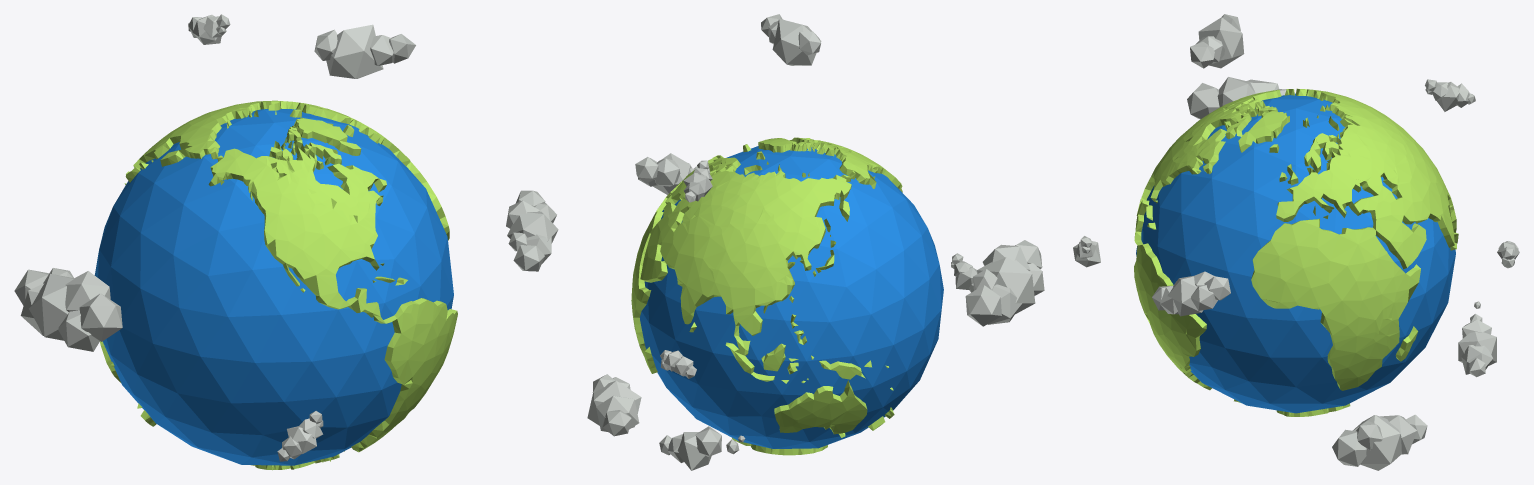
The model's file is lowpoly_earth.glb.
3 renders of one model, left to right at view 1: azimuth 30°, elevation 25°; view 2: azimuth 150°, elevation 25°; view 3: azimuth 270°, elevation 25°, orthographic. The views are drawn at different scales.
Parts seen in each view (by area): view 1: Ocean, Low poly earth.001, Cloud 3, Cloud 4, Cloud 2, Cloud 7, Cloud 8; view 2: Ocean, Low poly earth.001, Cloud 3, Cloud 5, Cloud 4, Cloud 6, Cloud 2, Cloud 8, Cloud 1, Cloud 7; view 3: Low poly earth.001, Ocean, Cloud 5, Cloud 2, Cloud 4, Cloud 3, Cloud 6, Cloud 8, Cloud 7.
Part boxes in pixels (x1=…): Ocean: x1=94, y1=109, x2=453, y2=465; Low poly earth.001: x1=100, y1=100, x2=457, y2=470; Cloud 3: x1=14, y1=268, x2=122, y2=351; Cloud 4: x1=314, y1=24, x2=415, y2=78; Cloud 2: x1=506, y1=190, x2=558, y2=271; Cloud 7: x1=277, y1=411, x2=323, y2=461; Cloud 8: x1=188, y1=14, x2=230, y2=44; Ocean: x1=640, y1=146, x2=943, y2=448; Low poly earth.001: x1=631, y1=137, x2=902, y2=455; Cloud 3: x1=965, y1=240, x2=1044, y2=326; Cloud 5: x1=587, y1=374, x2=641, y2=436; Cloud 4: x1=761, y1=14, x2=821, y2=65; Cloud 6: x1=659, y1=426, x2=745, y2=470; Cloud 2: x1=635, y1=153, x2=697, y2=194; Cloud 8: x1=683, y1=160, x2=712, y2=202; Cloud 1: x1=660, y1=350, x2=696, y2=378; Cloud 7: x1=951, y1=253, x2=977, y2=292; Low poly earth.001: x1=1134, y1=88, x2=1458, y2=416; Ocean: x1=1136, y1=93, x2=1455, y2=413; Cloud 5: x1=1332, y1=414, x2=1427, y2=470; Cloud 2: x1=1152, y1=271, x2=1230, y2=316; Cloud 4: x1=1190, y1=14, x2=1244, y2=68; Cloud 3: x1=1187, y1=77, x2=1286, y2=119; Cloud 6: x1=1458, y1=301, x2=1496, y2=377; Cloud 8: x1=1425, y1=79, x2=1475, y2=111; Cloud 7: x1=1073, y1=236, x2=1100, y2=267.
Size of the model in its own units: 9.32 by 8.22 by 8.38.
